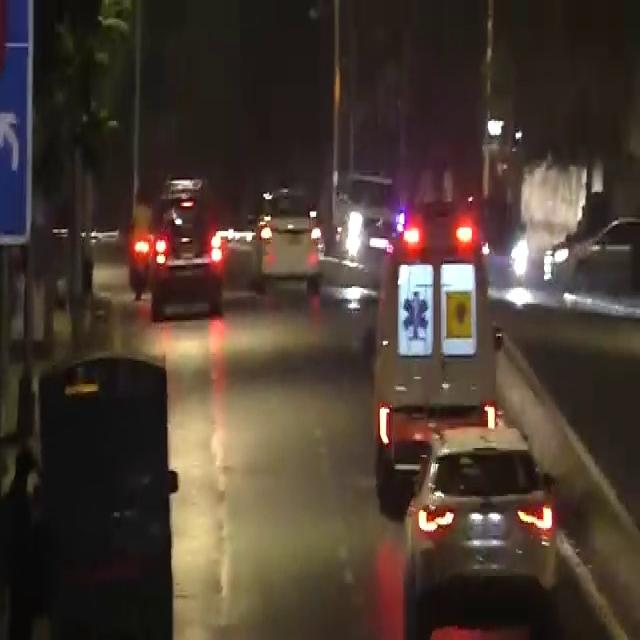ambulance: (372, 218, 510, 469)
